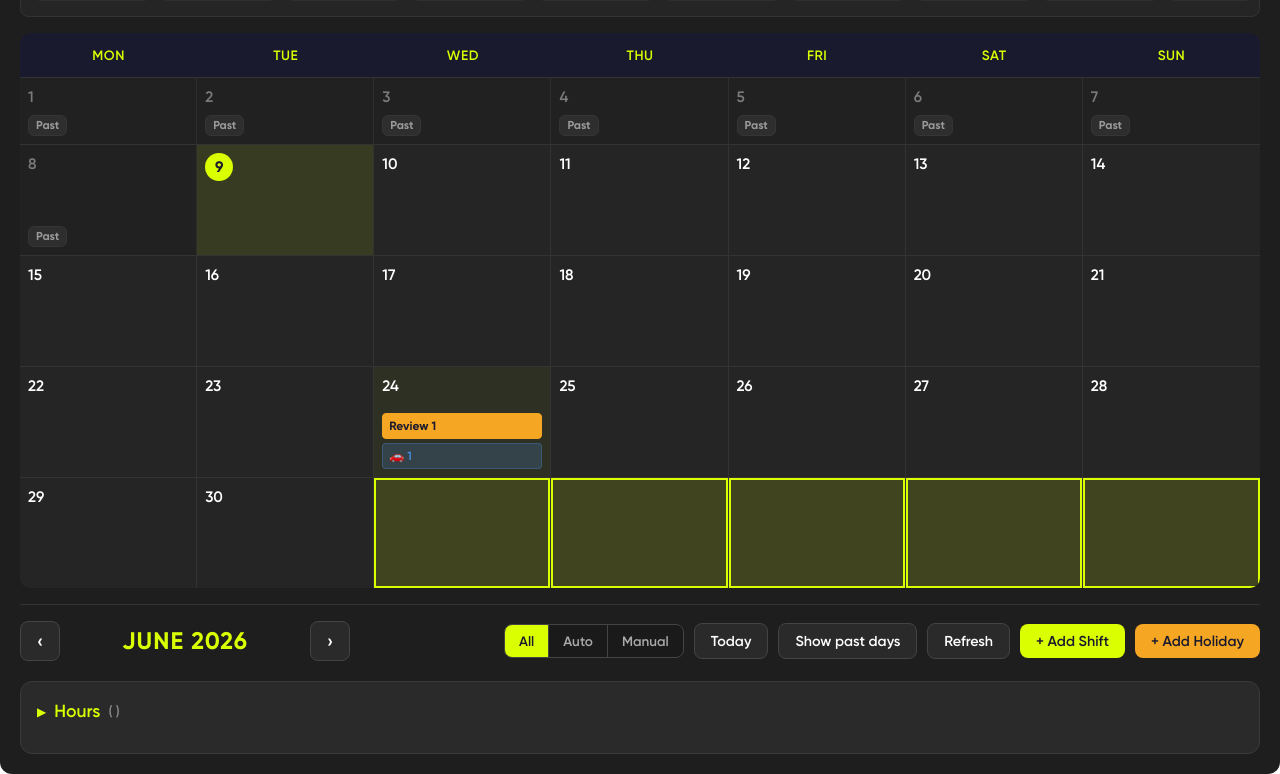
Test: RosterCalendar generate roster CTA gate › B: refreshes shift exception alerts after Generate roster succeeds
(page scrolled)
Click the text "24".
click(463, 422)  # box [374,367,551,477]
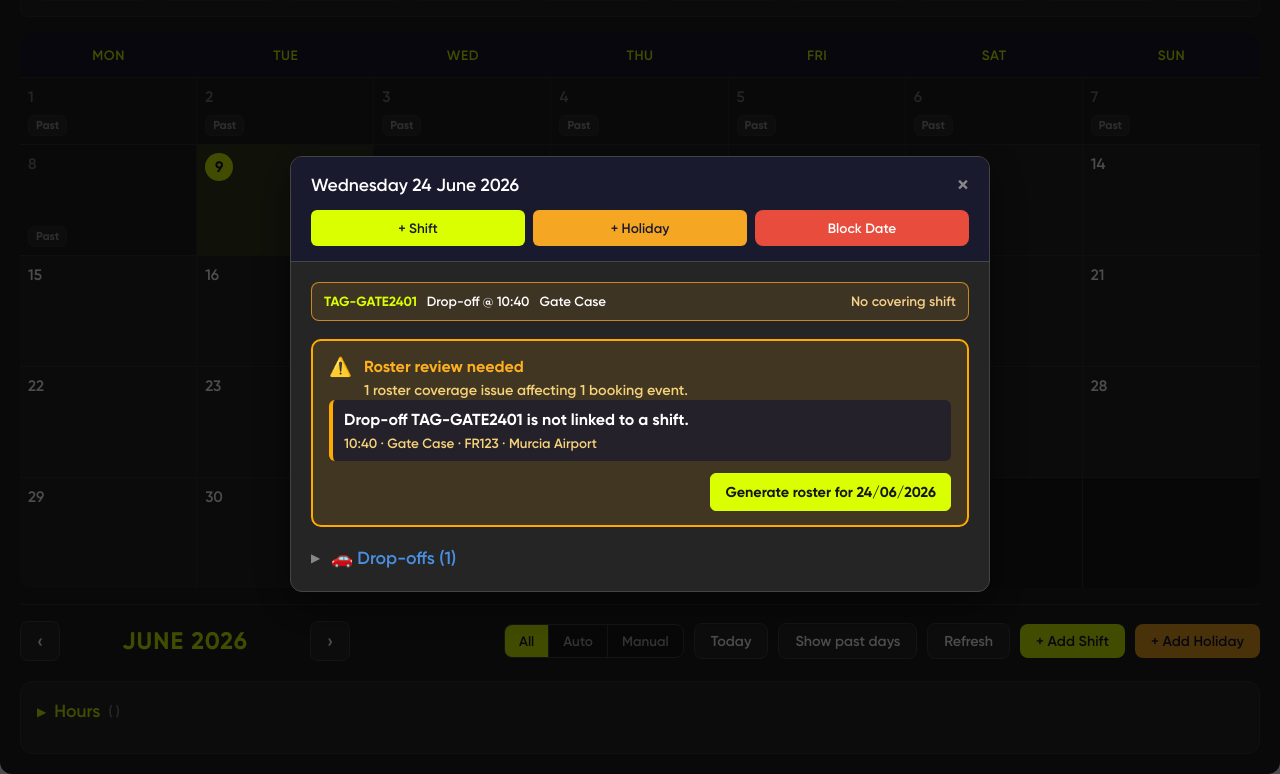
Expected: the text "Roster review needed" is shown 2 times
Expected: the text "No covering shift" is shown, [851,293,956,309]
Click the button "Generate roster for 24/06/2026".
click(831, 492)  # box [710,473,951,511]
(page scrolled)
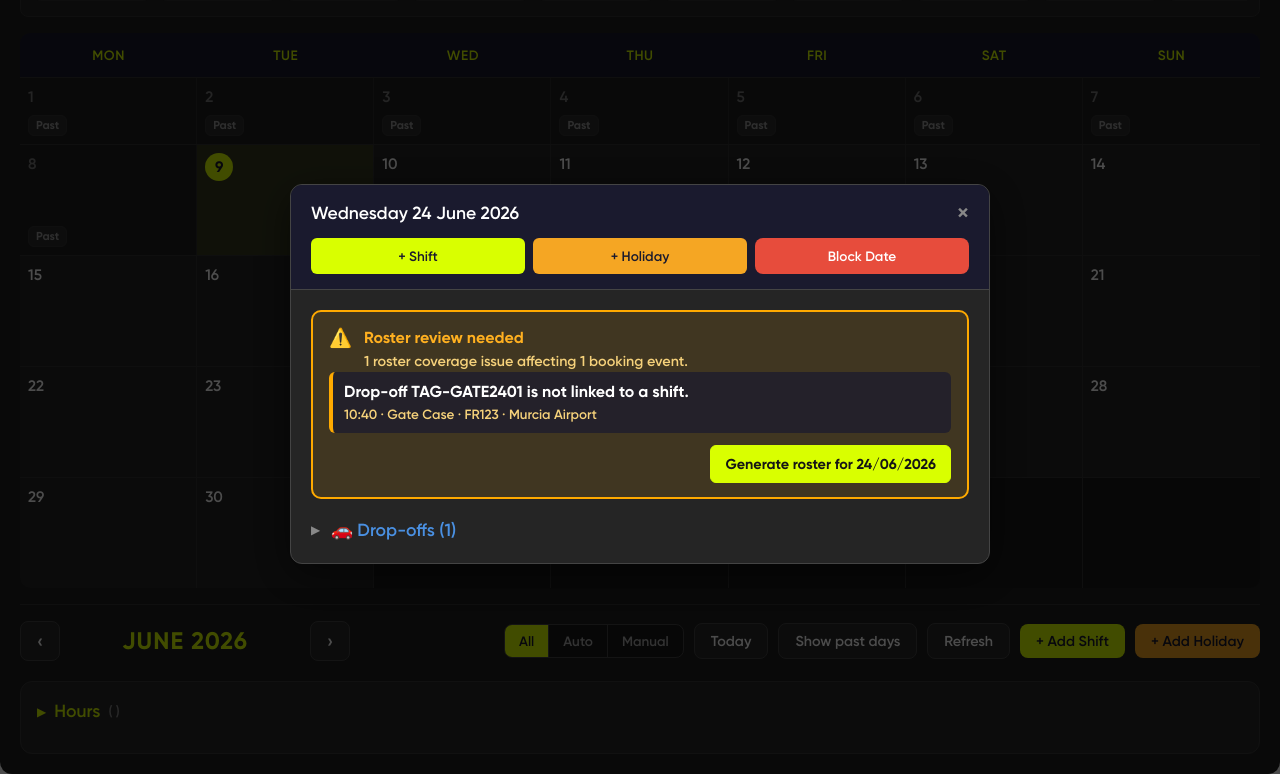
Expected: the button "No covering shift" is gone
